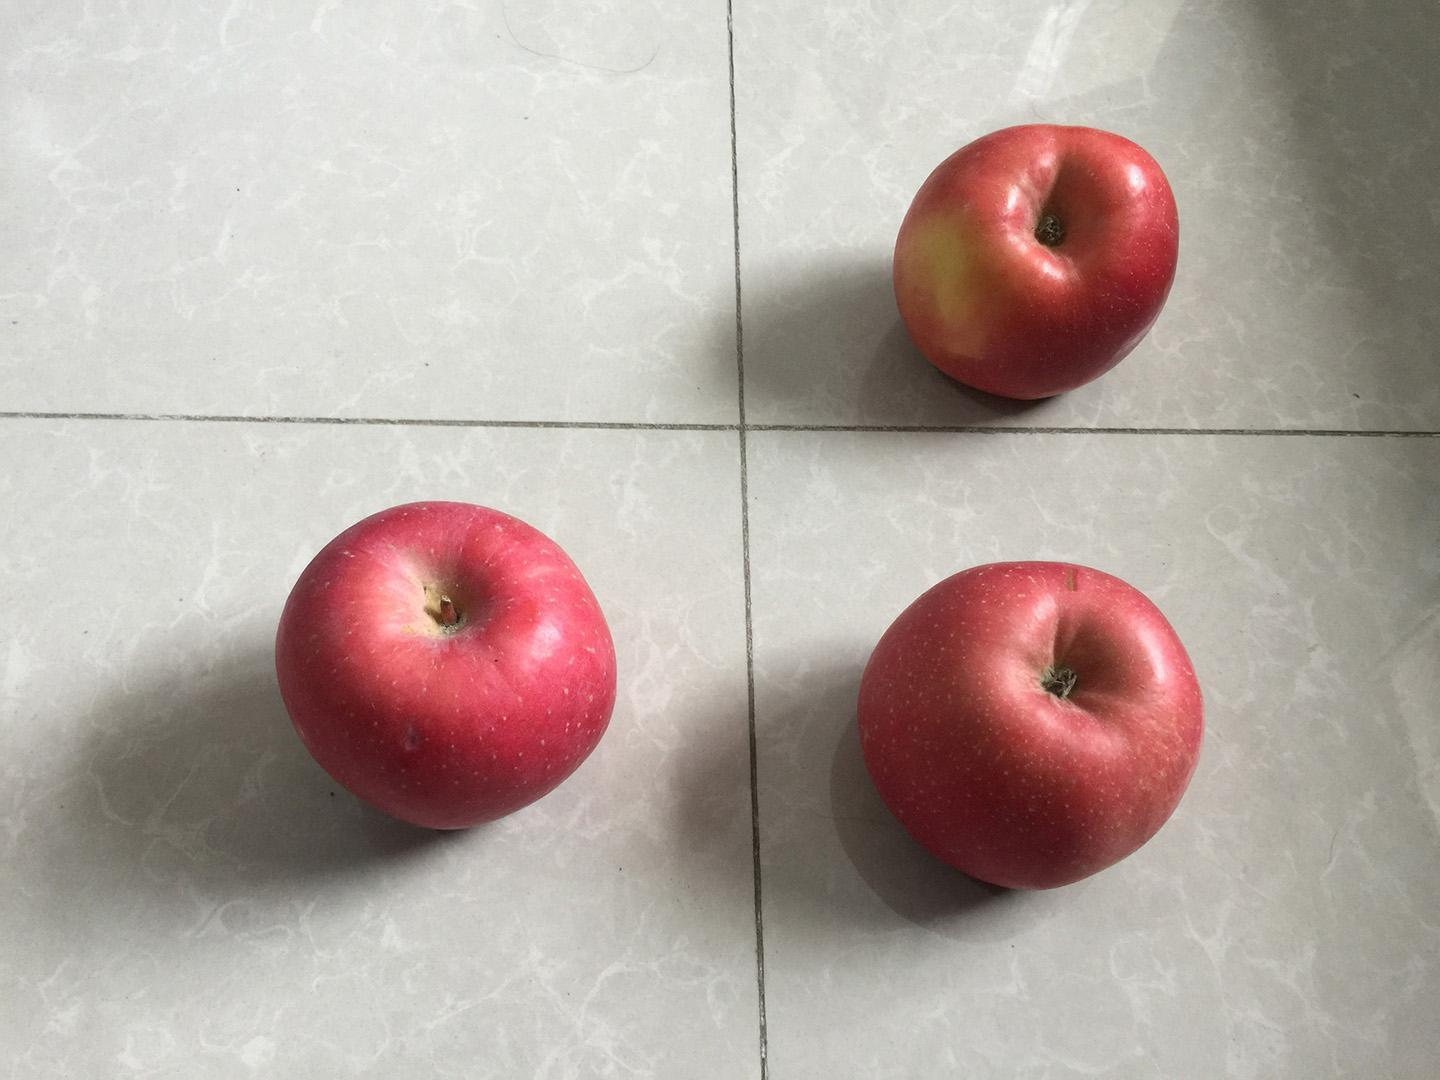apple: (263, 488, 627, 839), (850, 550, 1211, 894), (888, 119, 1188, 403)
